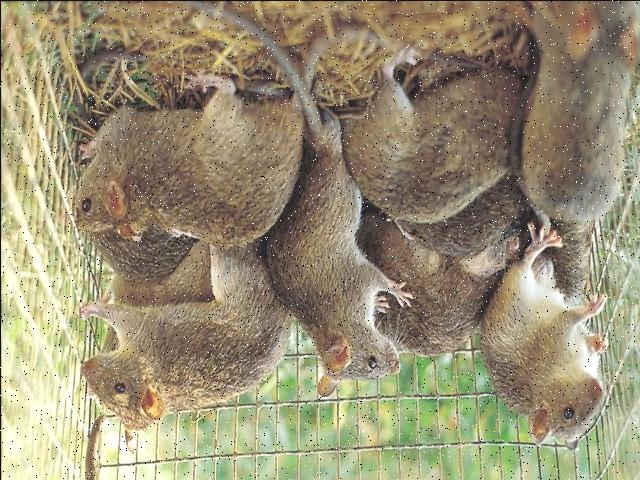Tikus: (68, 101, 298, 243), (282, 143, 410, 397), (80, 296, 282, 452), (482, 260, 612, 449)
